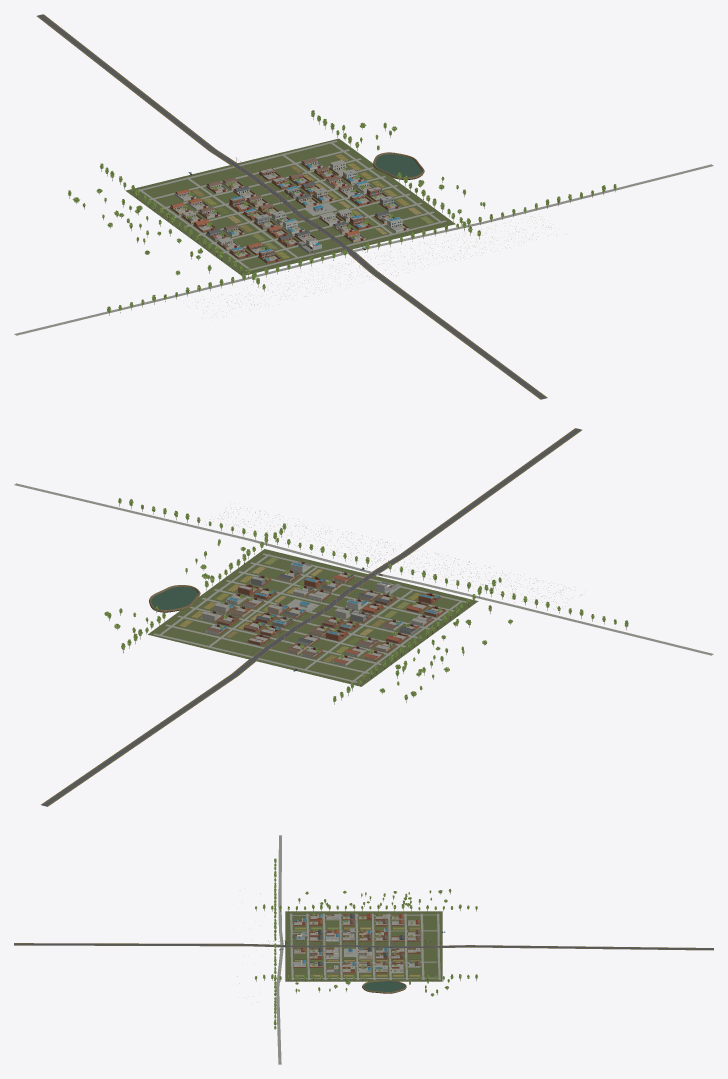
The model's file is village.glb.
The picture shows the model from 3 angles, top to bottom: view 1: azimuth 30°, elevation 25°; view 2: azimuth 150°, elevation 25°; view 3: azimuth 270°, elevation 25°; orthographic projection. The views are drawn at different scales.
Parts seen in each view (by area): view 1: 村边杂草地, 旧水泥路与晒场, 黄褐土壤, 村主路 沥青, 烧结红砖 / 240×70mm, 树叶2, 树叶1, 树叶0, 树叶3, 树叶4, 旧抹灰_0, 旧抹灰_3 (+6 smaller); view 2: 村边杂草地, 旧水泥路与晒场, 黄褐土壤, 烧结红砖 / 240×70mm, 村主路 沥青, 树叶2, 树叶1, 树叶0, 树叶3, 树叶4, 旧抹灰_0, 旧抹灰_2 (+5 smaller); view 3: 村边杂草地, 旧水泥路与晒场, 黄褐土壤, 村主路 沥青, 烧结红砖 / 240×70mm, 树叶0, 树叶1, 树叶2, 树叶4, 树叶3, 旧抹灰_0.
Part boxes in pixels (x1,y1,x2,y2): 村边杂草地: [125, 138, 455, 275]; 旧水泥路与晒场: [14, 140, 713, 335]; 黄褐土壤: [36, 14, 547, 399]; 村主路 沥青: [38, 14, 546, 399]; 烧结红砖 / 240×70mm: [170, 162, 408, 263]; 树叶2: [68, 110, 616, 311]; 树叶1: [68, 110, 616, 312]; 树叶0: [69, 110, 615, 311]; 树叶3: [68, 110, 616, 310]; 树叶4: [68, 113, 615, 312]; 旧抹灰_0: [174, 159, 373, 249]; 旧抹灰_3: [170, 179, 389, 242]; 村边杂草地: [148, 549, 478, 686]; 旧水泥路与晒场: [14, 483, 713, 682]; 黄褐土壤: [41, 428, 581, 806]; 烧结红砖 / 240×70mm: [213, 562, 445, 661]; 村主路 沥青: [42, 428, 580, 806]; 树叶2: [105, 499, 628, 701]; 树叶1: [105, 498, 628, 701]; 树叶0: [104, 498, 627, 701]; 树叶3: [105, 498, 627, 700]; 树叶4: [104, 499, 628, 701]; 旧抹灰_0: [201, 586, 432, 666]; 旧抹灰_2: [202, 570, 435, 665]; 村边杂草地: [285, 911, 442, 981]; 旧水泥路与晒场: [276, 835, 440, 1064]; 黄褐土壤: [14, 927, 713, 993]; 村主路 沥青: [14, 943, 713, 949]; 烧结红砖 / 240×70mm: [293, 914, 420, 973]; 树叶0: [255, 858, 477, 1029]; 树叶1: [255, 858, 477, 1028]; 树叶2: [255, 859, 477, 1028]; 树叶4: [255, 862, 477, 1028]; 树叶3: [255, 859, 476, 1028]; 旧抹灰_0: [326, 914, 420, 973].
Bounding box in the file's own units: 930 × 14.49 × 1200.
